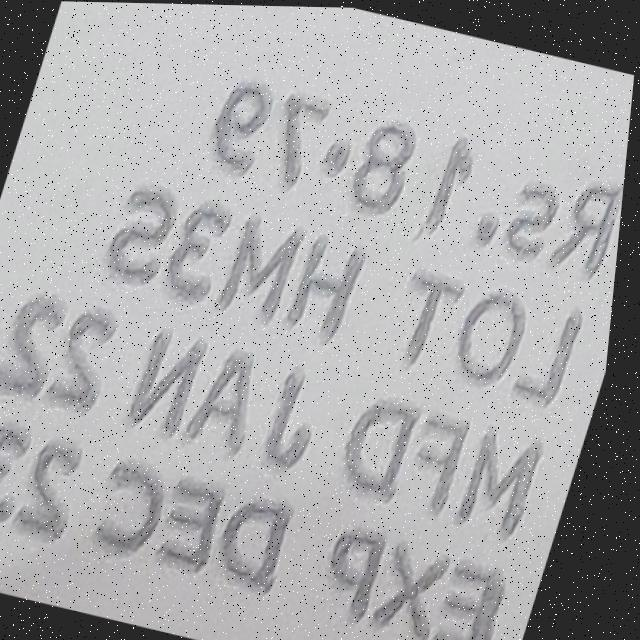sentence: (2, 293, 552, 536), (0, 420, 516, 640), (110, 183, 589, 402), (214, 80, 627, 276)
